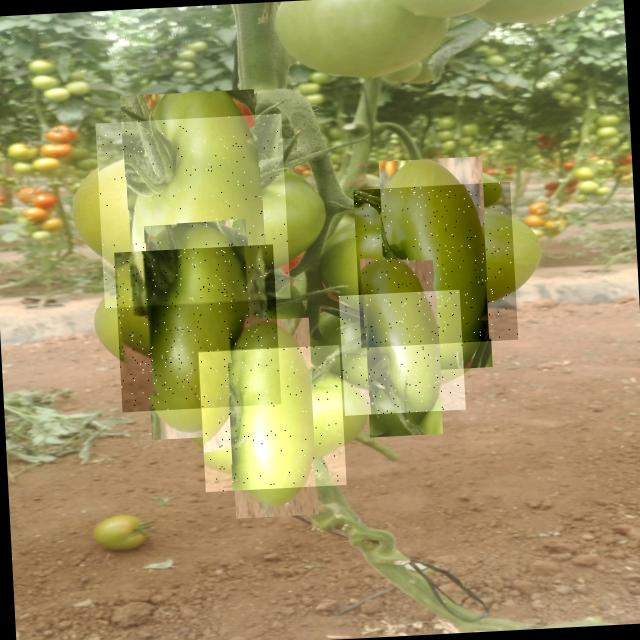Unripe Tomato: (96, 114, 290, 308), (115, 245, 282, 413), (354, 182, 518, 348), (198, 345, 346, 492), (339, 290, 466, 416)
